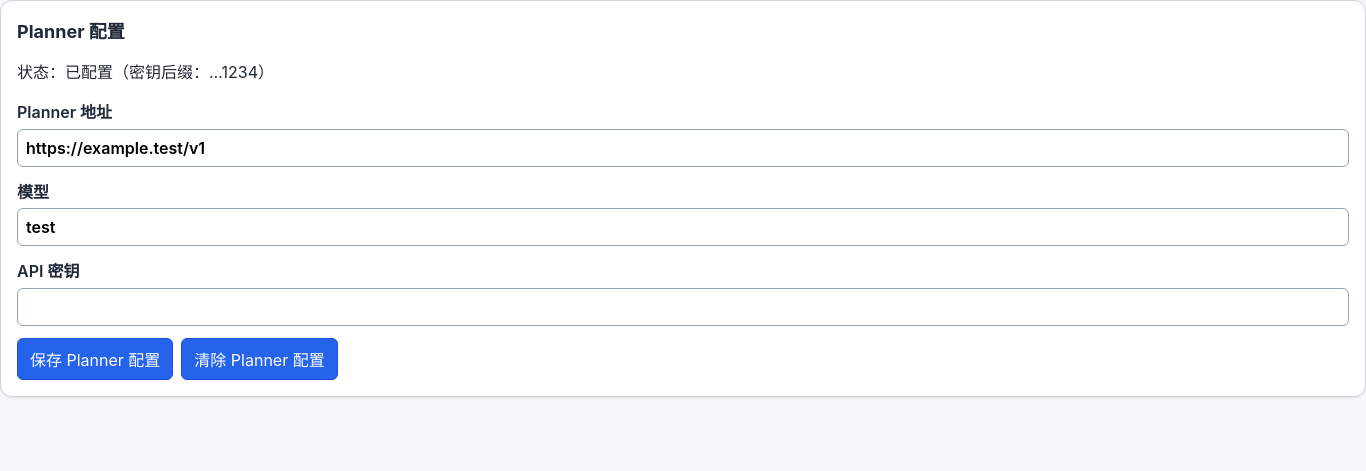
Test: PlannerSettings › uses the fixed clear error without rendering the request error
Click the button "清除 Planner 配置". click: (259, 359)
box: [181,338,338,380]
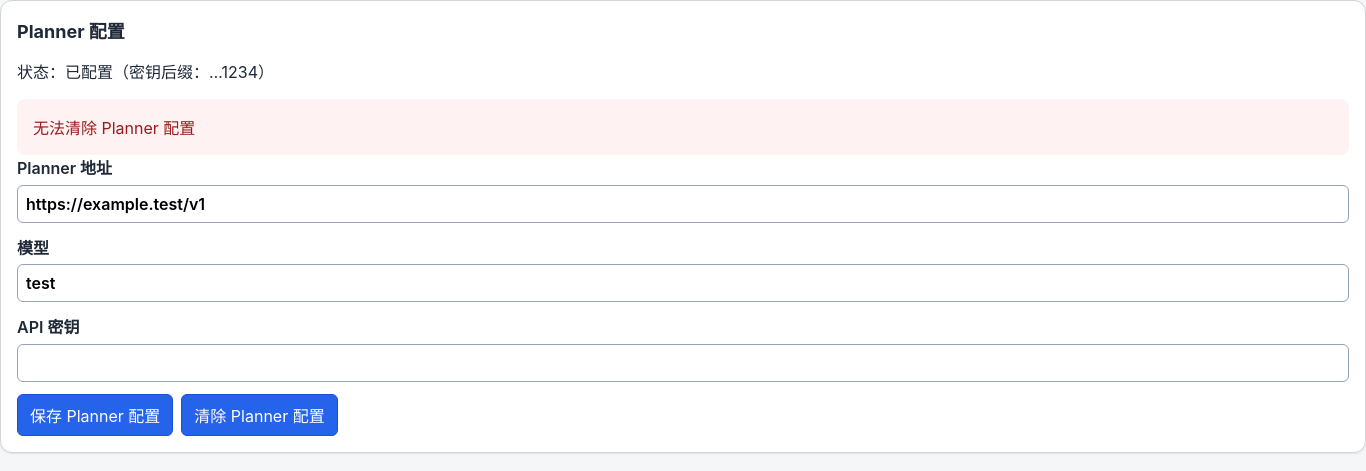
Expected: the text "无法清除 Planner 配置" is shown, [17,99,1349,155]
